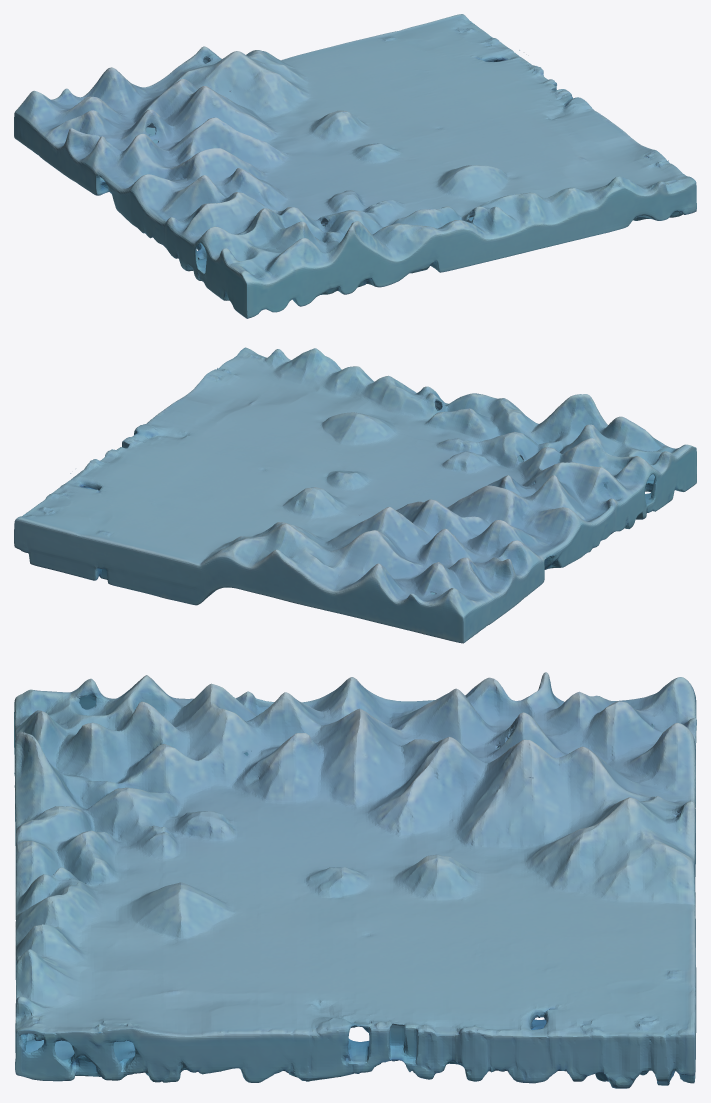
The model's file is mountains-mountains.glb.
3 views of the same model, one above another, from view 1: azimuth 30°, elevation 25°; view 2: azimuth 150°, elevation 25°; view 3: azimuth 270°, elevation 25° (orthographic). The views are drawn at different scales.
Visible parts, largest first — view 1: world; view 2: world; view 3: world.
Part boxes in pixels (x1,y1,x2,y2): world: (14,14,696,318); world: (14,347,696,643); world: (14,672,696,1088).
Bounding box in the file's own units: 0.9996 × 0.1892 × 0.8962.
